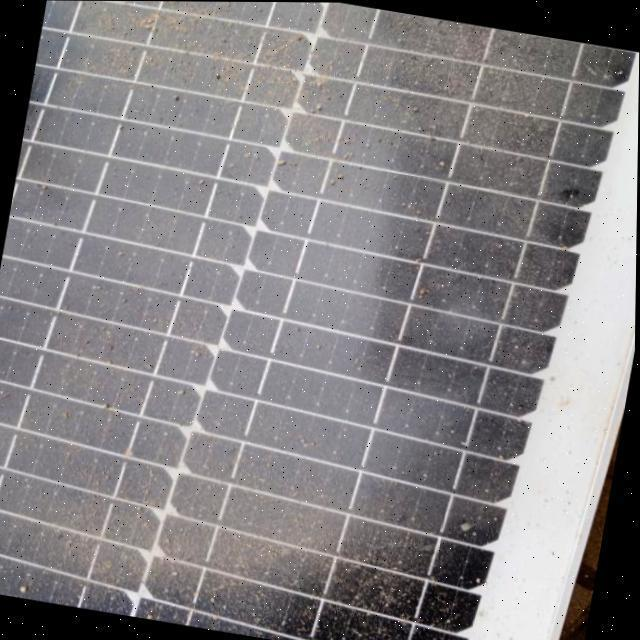Anomaly Solar Panel: (0, 0, 640, 640)
Surface Contaminant: (0, 0, 636, 640)
